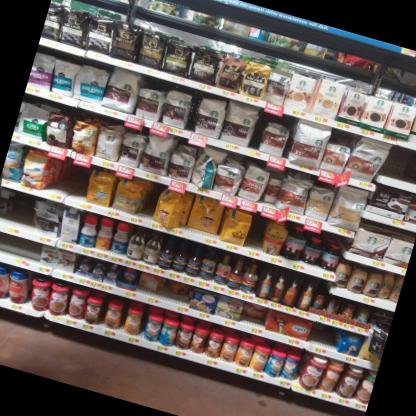empty_space: (50, 155, 91, 203), (0, 234, 42, 263), (383, 145, 415, 183), (243, 213, 271, 256), (9, 191, 34, 226), (309, 323, 336, 346)
